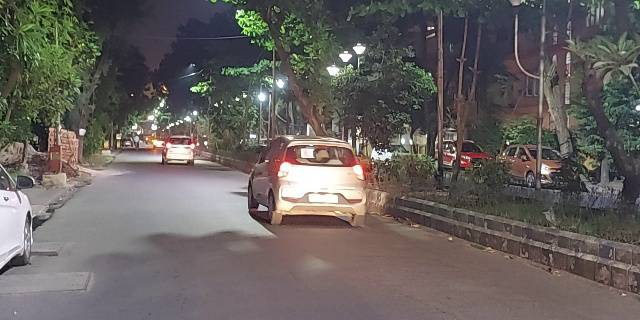Car: (246, 135, 366, 226), (159, 133, 197, 167)
